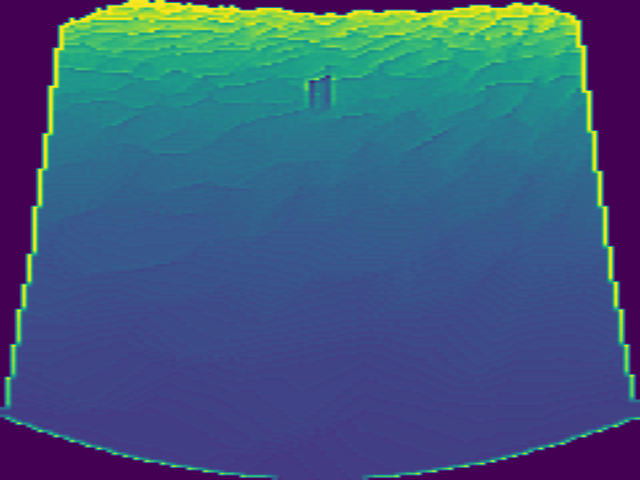car_0198: (306, 75, 331, 108)
